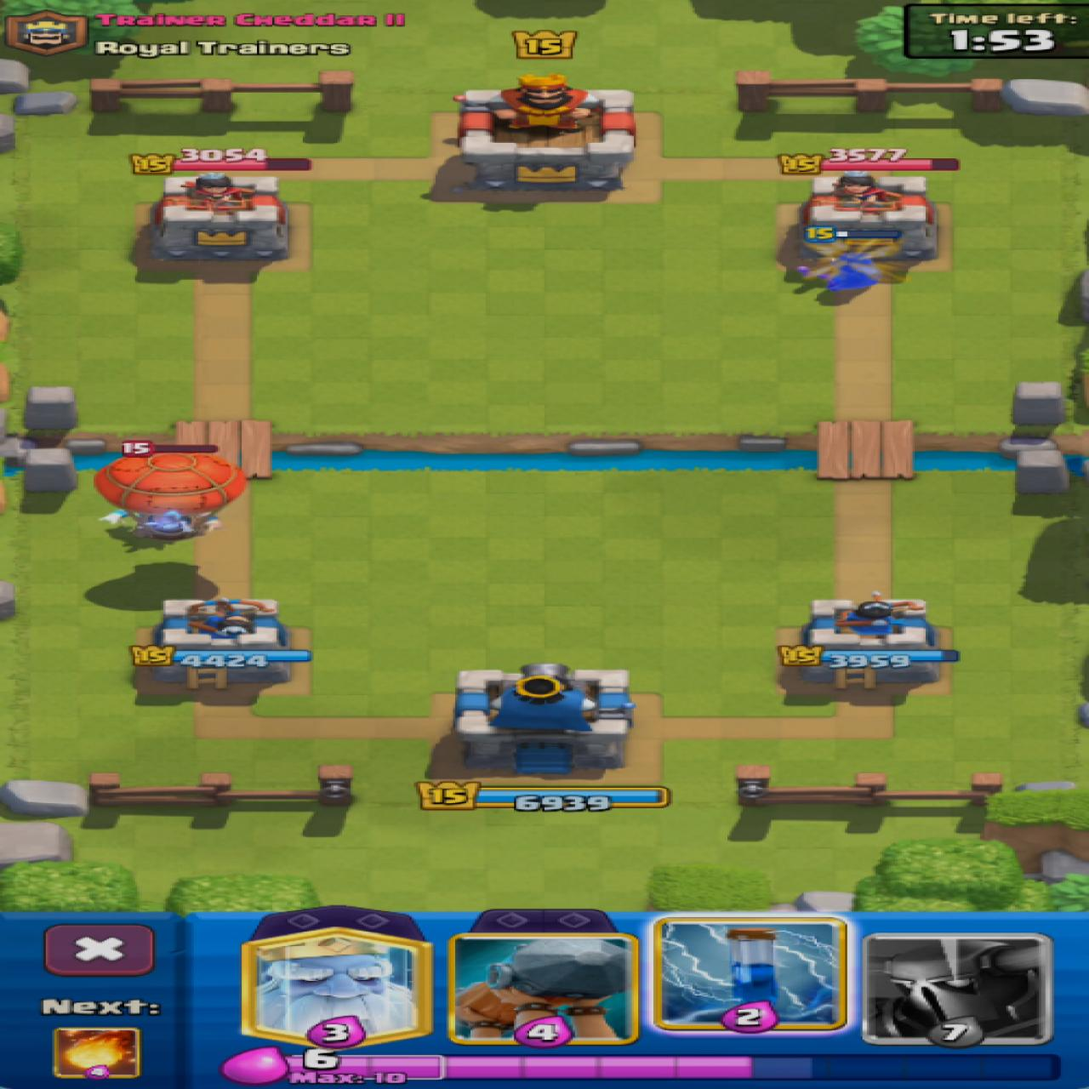Enemy-Balloon: (92, 451, 251, 542)
Enemy-KingTower: (457, 75, 634, 192)
Enemy-PrincessTower: (793, 171, 942, 260), (148, 174, 287, 262)
